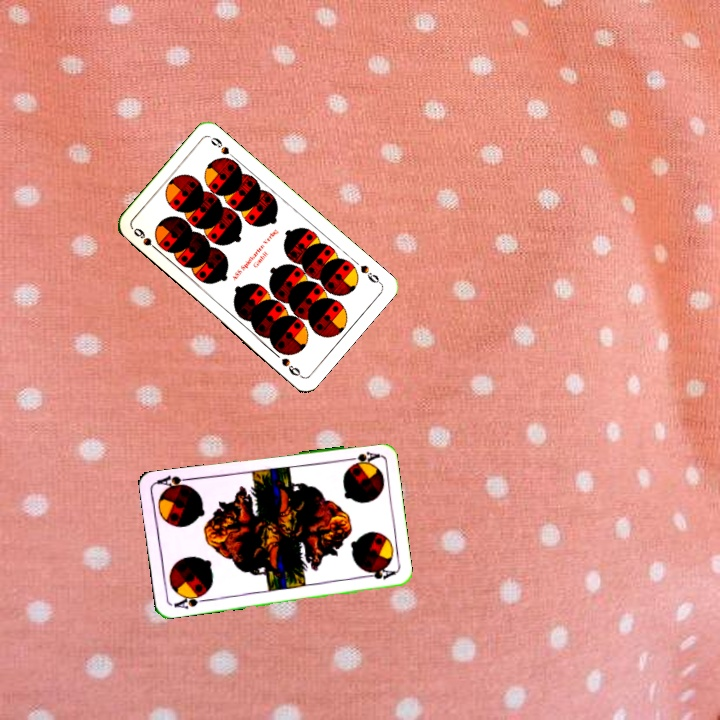S9: (129, 224, 163, 255), (356, 261, 384, 287)
SA: (170, 589, 210, 612), (340, 447, 381, 468)
